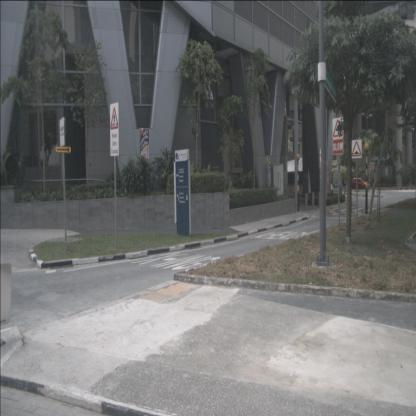human-pedestrian-adult: (343, 175, 347, 201)
vehicle-car: (351, 178, 370, 190)
